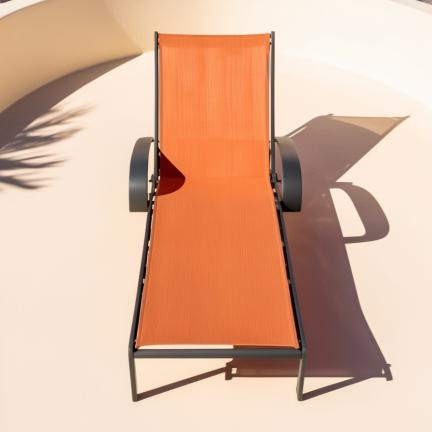empty chair: (129, 32, 307, 400)
